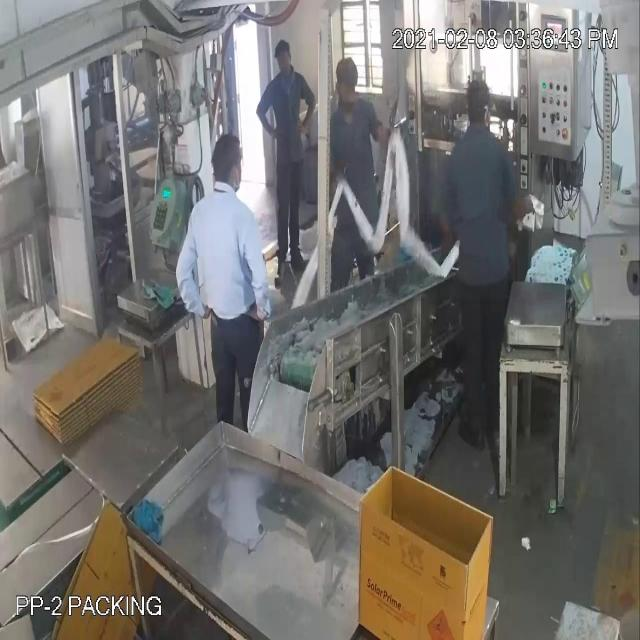No_Gloves: (18, 66, 308, 275)
